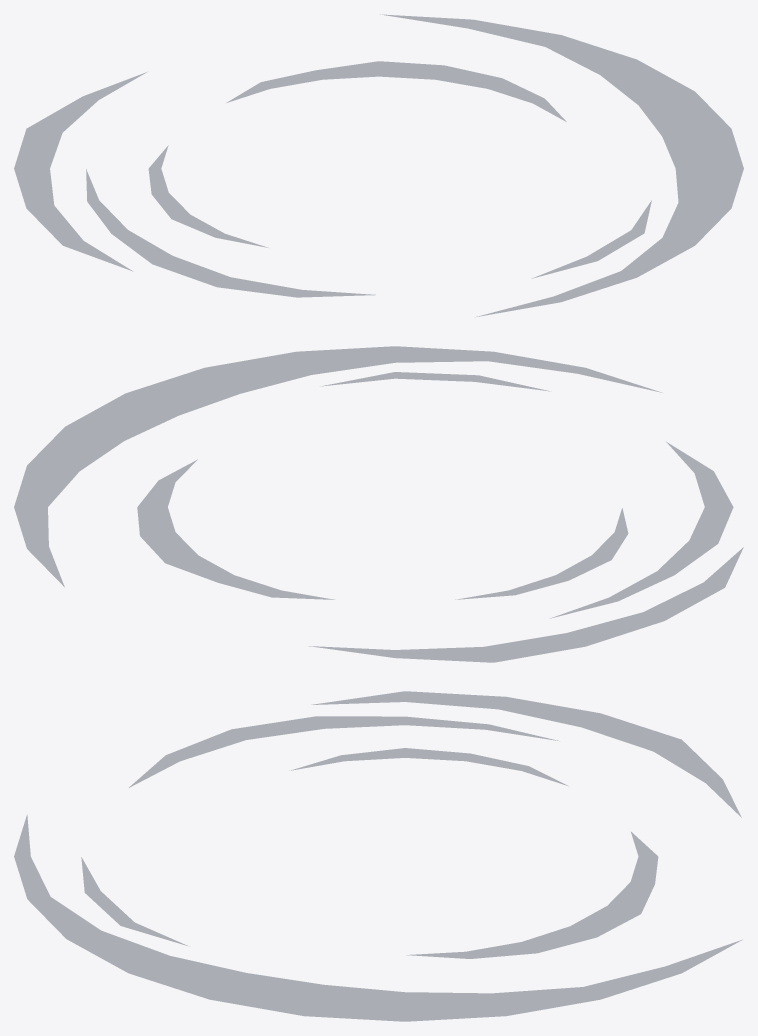
The model's file is SM_FX_StompRing_02.fbx.
3 views of the same model, one above another, from view 1: azimuth 30°, elevation 25°; view 2: azimuth 150°, elevation 25°; view 3: azimuth 270°, elevation 25° (orthographic). The views are drawn at different scales.
Visible parts, largest first — view 1: SM_FX_StompRing_02; view 2: SM_FX_StompRing_02; view 3: SM_FX_StompRing_02.
Boxes of the visible parts, bbox=[...] form: SM_FX_StompRing_02: bbox=[14, 14, 743, 317]; SM_FX_StompRing_02: bbox=[14, 346, 743, 662]; SM_FX_StompRing_02: bbox=[14, 691, 742, 1021].
Bounding box in the file's own units: 138 × 3.1e-06 × 129.
